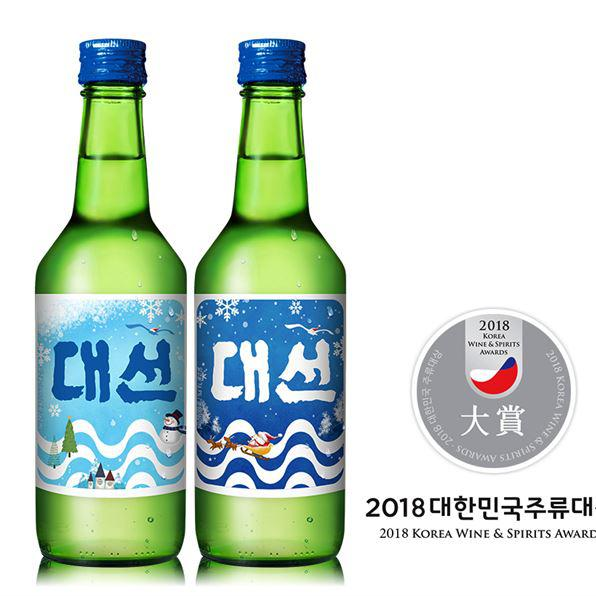soju: (31, 33, 352, 565)
